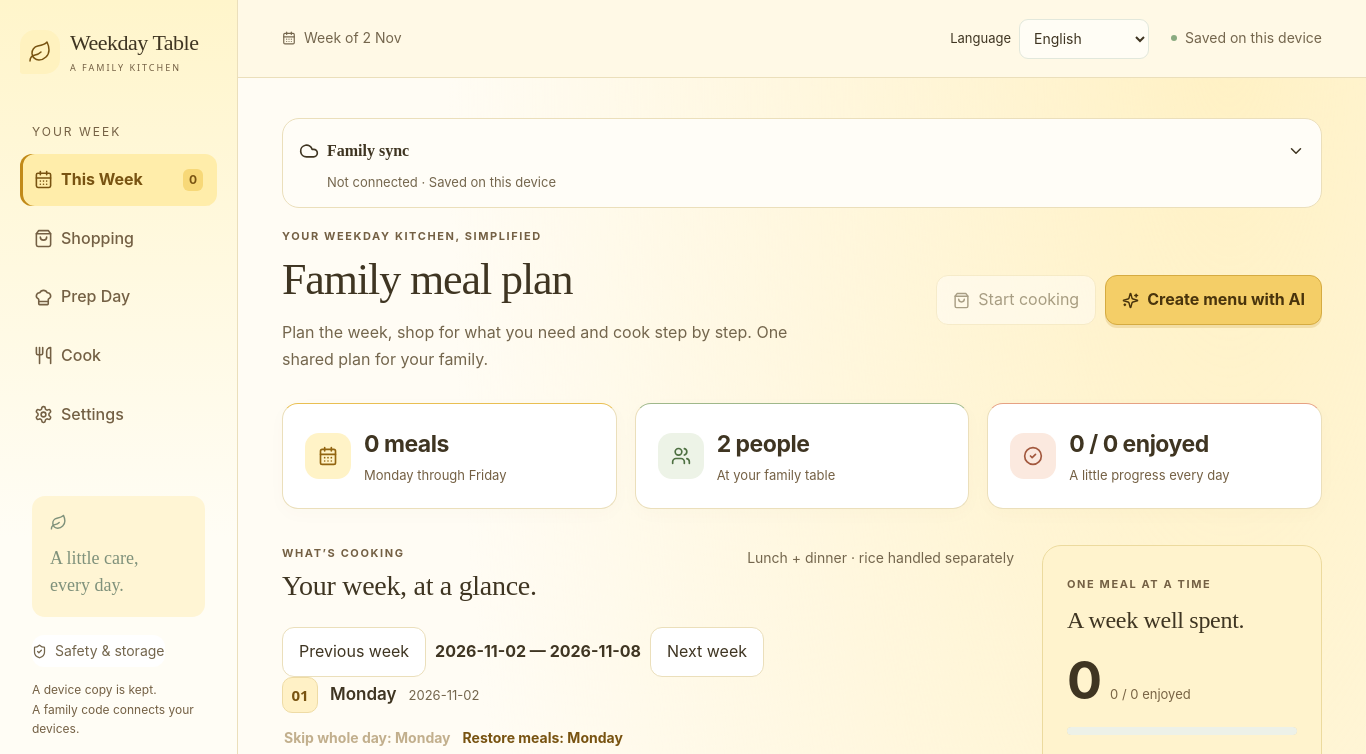
shows an empty cooking state when the entire week is skipped
Expected: the navigation bar is shown, [20, 154, 217, 440]
Click the button "Cook" at [118, 356], box [20, 330, 217, 382]
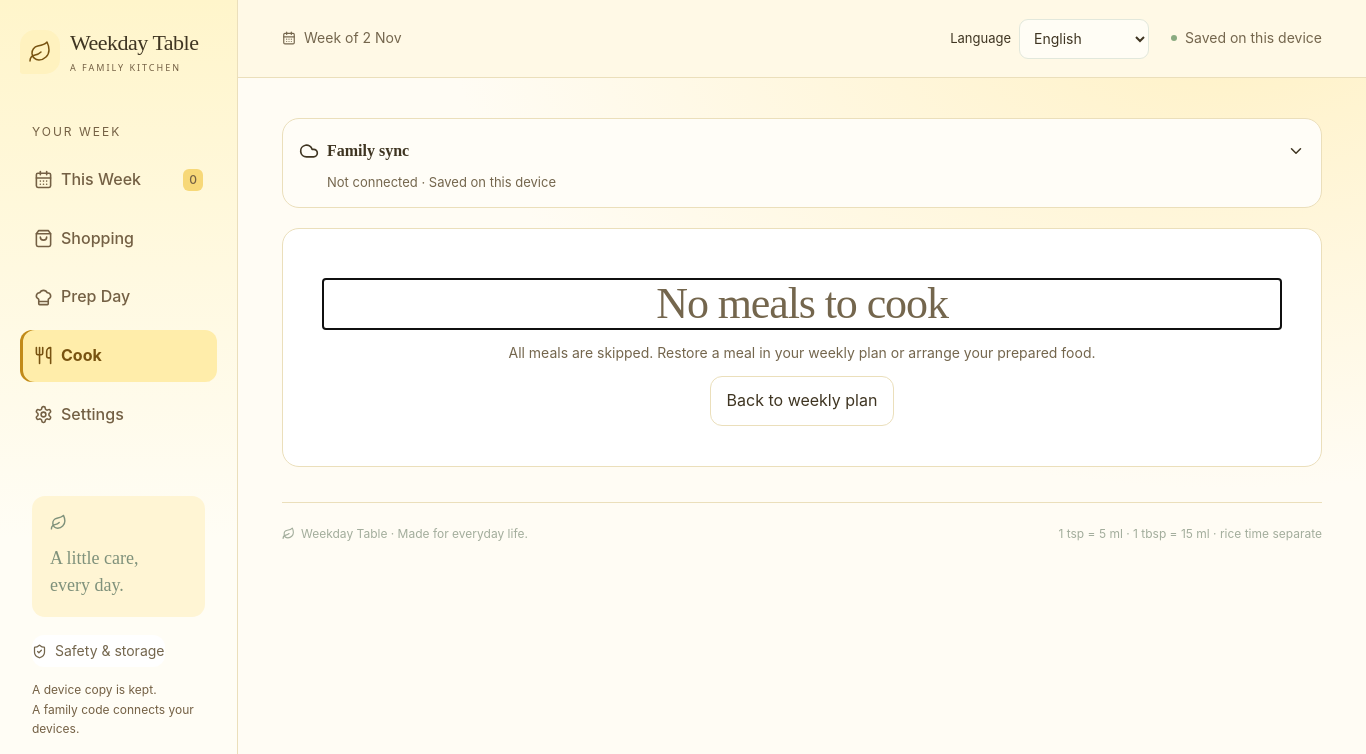
Expected: the heading "No meals to cook" is shown, [656, 278, 948, 328]
